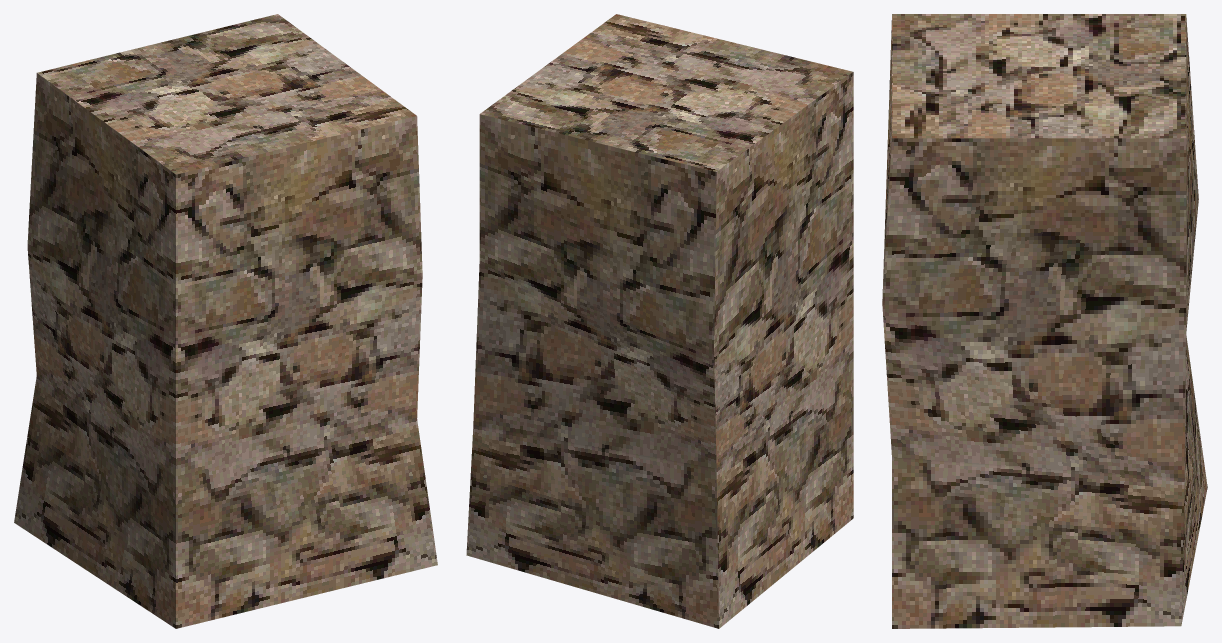
Rendered from drystone_column_old.glb.
The picture shows the model from 3 angles, left to right: view 1: azimuth 30°, elevation 25°; view 2: azimuth 150°, elevation 25°; view 3: azimuth 270°, elevation 25°; orthographic projection. The views are drawn at different scales.
Parts seen in each view (by area): view 1: drystone_column; view 2: drystone_column; view 3: drystone_column.
Part boxes in pixels (x1,y1,x2,y2): drystone_column: (14, 14, 437, 628); drystone_column: (466, 14, 853, 628); drystone_column: (882, 14, 1207, 628).
Bounding box in the file's own units: 0.5691 × 0.9 × 0.5529.
Materials: 1 (1 with a texture image).
